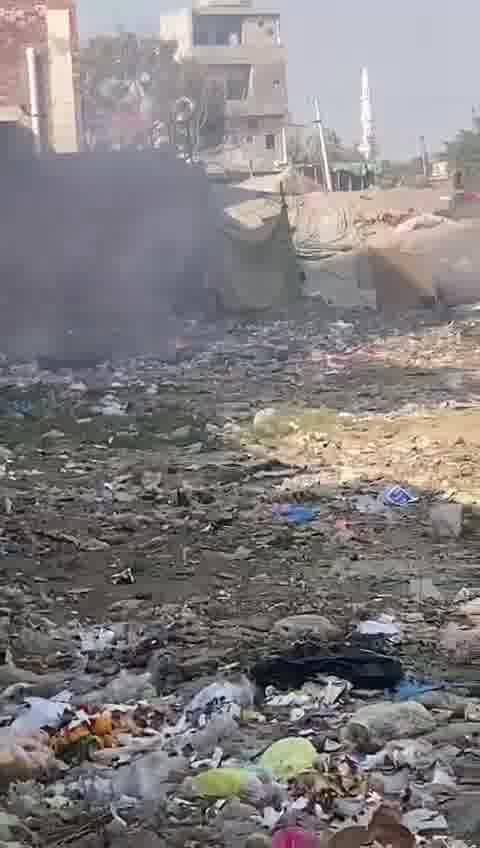garbage: (0, 598, 480, 848), (5, 330, 480, 557)
